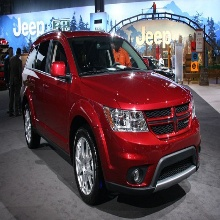no damage: (19, 30, 203, 205)
